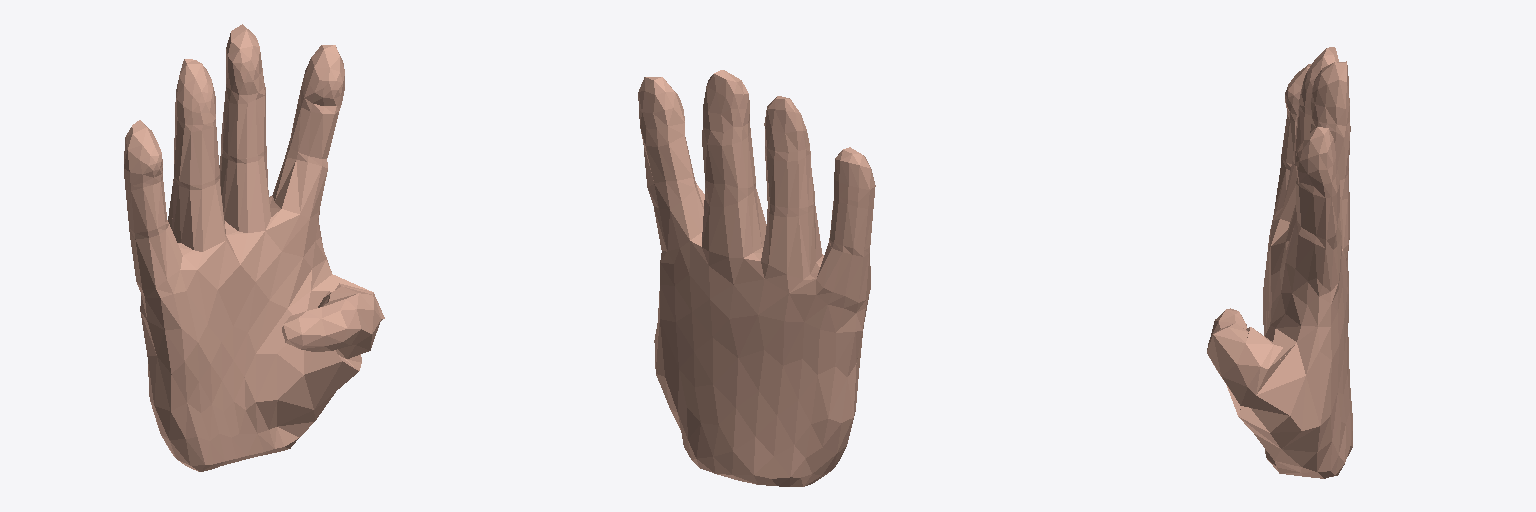
Rendered from MAO_4.obj.
3 views of the same model, side by side, from view 1: azimuth 30°, elevation 25°; view 2: azimuth 150°, elevation 25°; view 3: azimuth 270°, elevation 25° (orthographic).
Parts seen in each view (by area): view 1: mao_dir:mao_dir; view 2: mao_dir:mao_dir; view 3: mao_dir:mao_dir.
Part boxes in pixels (left/top/right/bottom): mao_dir:mao_dir: left=124, top=24, right=384, bottom=471; mao_dir:mao_dir: left=638, top=70, right=875, bottom=486; mao_dir:mao_dir: left=1207, top=47, right=1352, bottom=478.
Bounding box in the file's own units: 147 × 243 × 79.75.